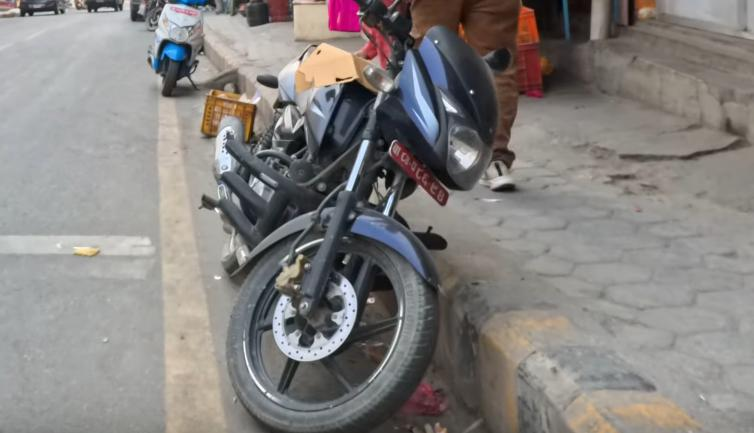bike: (178, 3, 513, 433)
